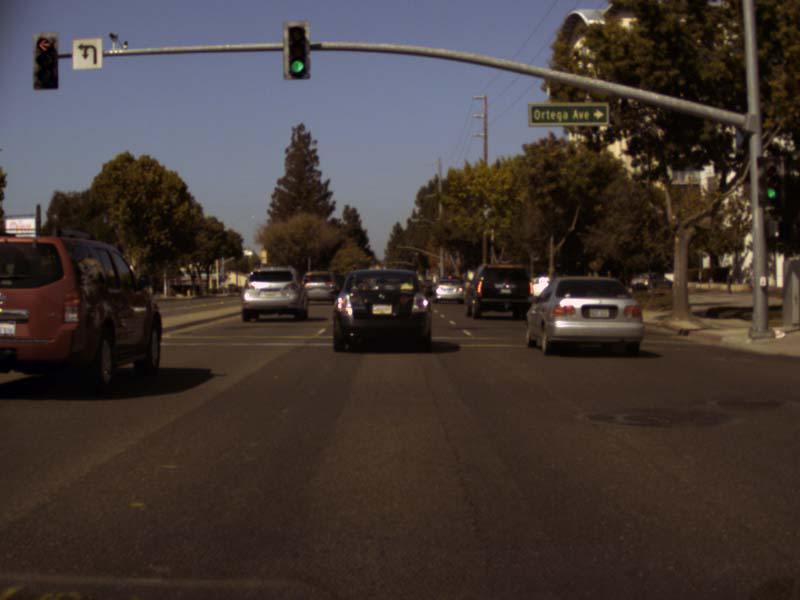Green: (282, 20, 310, 80), (756, 156, 784, 207)
Red: (31, 33, 58, 89)
